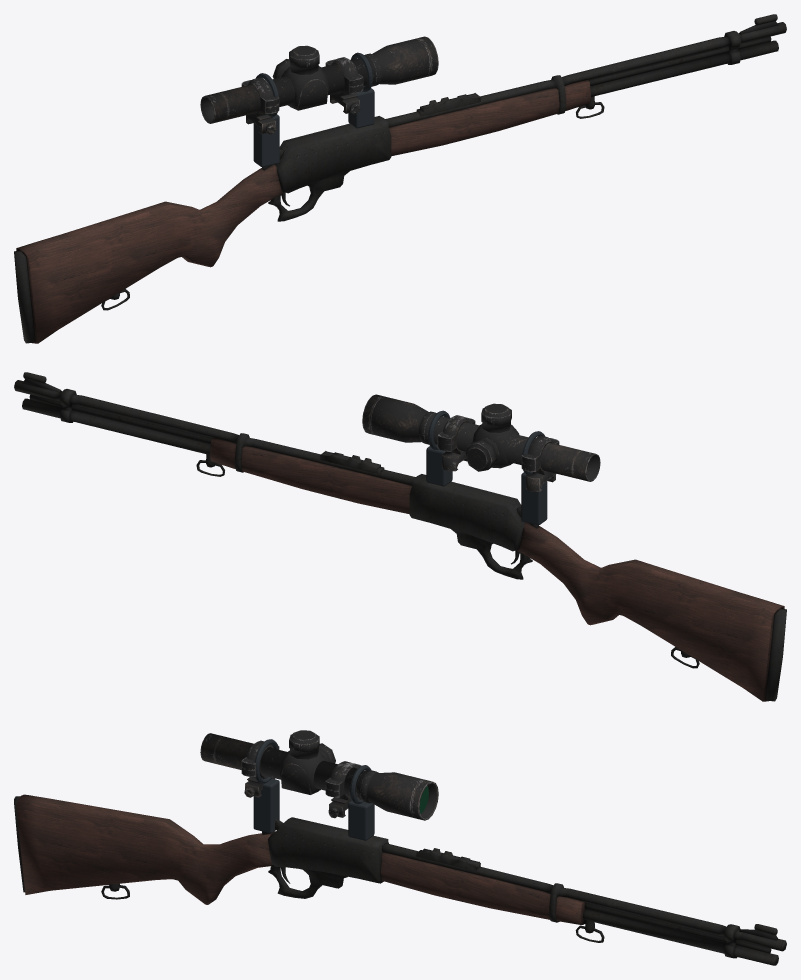
File: scoped-hunting.glb
3 renders of one model, top to bottom at view 1: azimuth 30°, elevation 25°; view 2: azimuth 150°, elevation 25°; view 3: azimuth 330°, elevation 25°, orthographic.
Parts seen in each view (by area): view 1: Body, ScopeBody, ScopeMount, ScopeMount.001; view 2: Body, ScopeBody, ScopeMount, ScopeMount.001; view 3: Body, ScopeBody, ScopeMount, ScopeMount.001.
Boxes of the visible parts, x1,y1,x2,y2 form: Body: [14, 14, 786, 343]; ScopeBody: [200, 36, 438, 134]; ScopeMount: [253, 114, 279, 167]; ScopeMount.001: [348, 86, 374, 128]; Body: [14, 372, 786, 701]; ScopeBody: [362, 394, 600, 491]; ScopeMount: [521, 472, 547, 525]; ScopeMount.001: [426, 444, 452, 486]; Body: [14, 794, 786, 965]; ScopeBody: [200, 730, 438, 820]; ScopeMount: [253, 778, 279, 833]; ScopeMount.001: [348, 800, 374, 840].
Bounding box in the file's own units: 0.9 × 0.2523 × 0.0668.
Materials: 3 (2 with a texture image).
